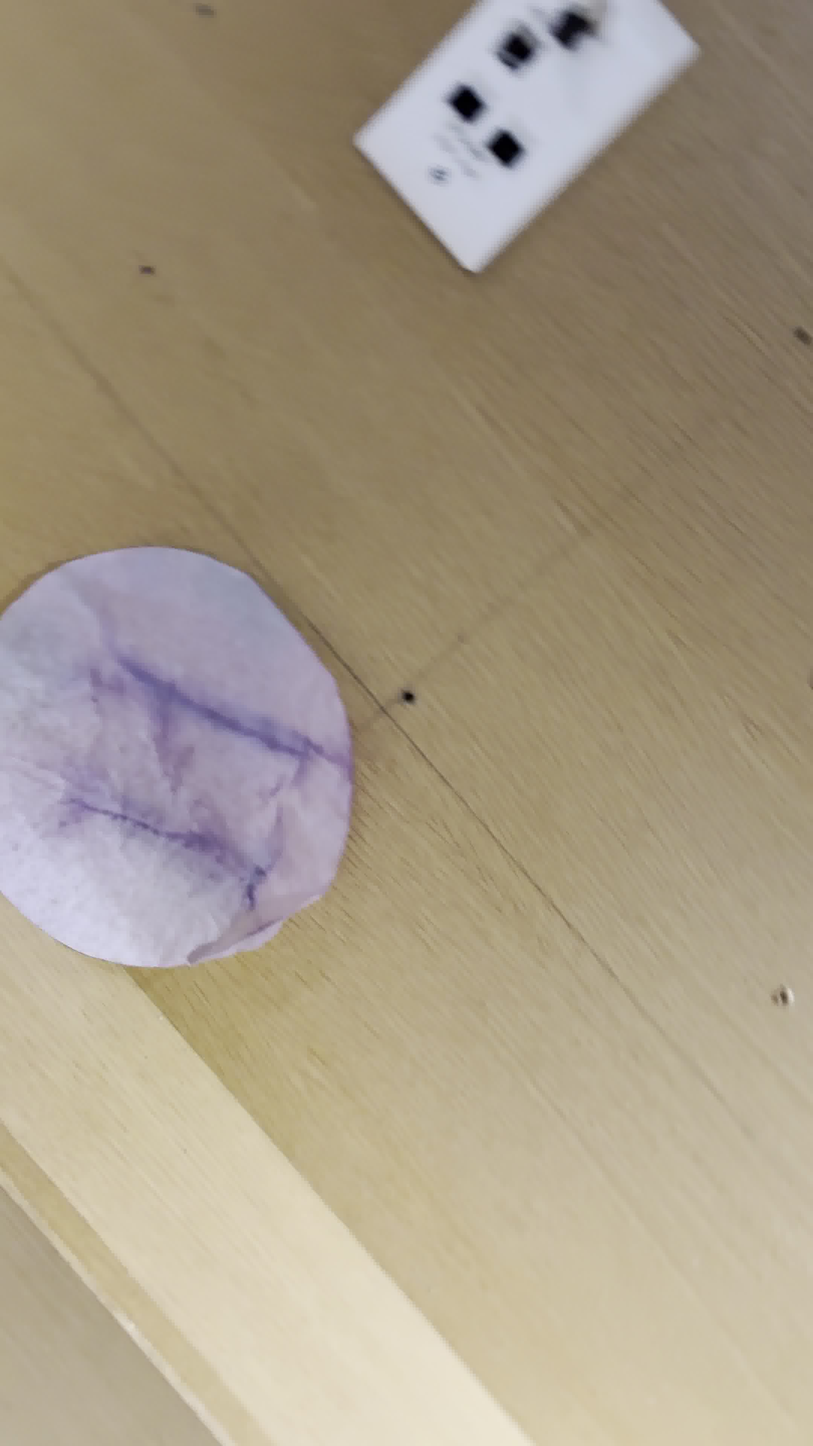Target: (0, 543, 353, 967)
